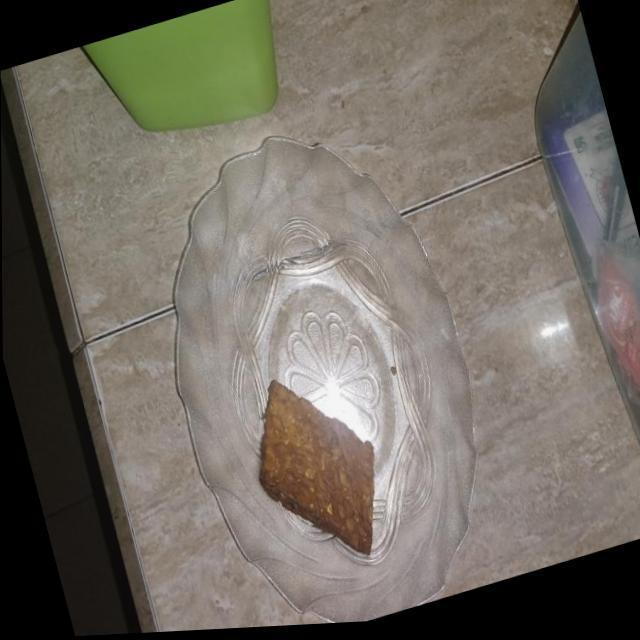tempe_goreng: (259, 380, 374, 554)
